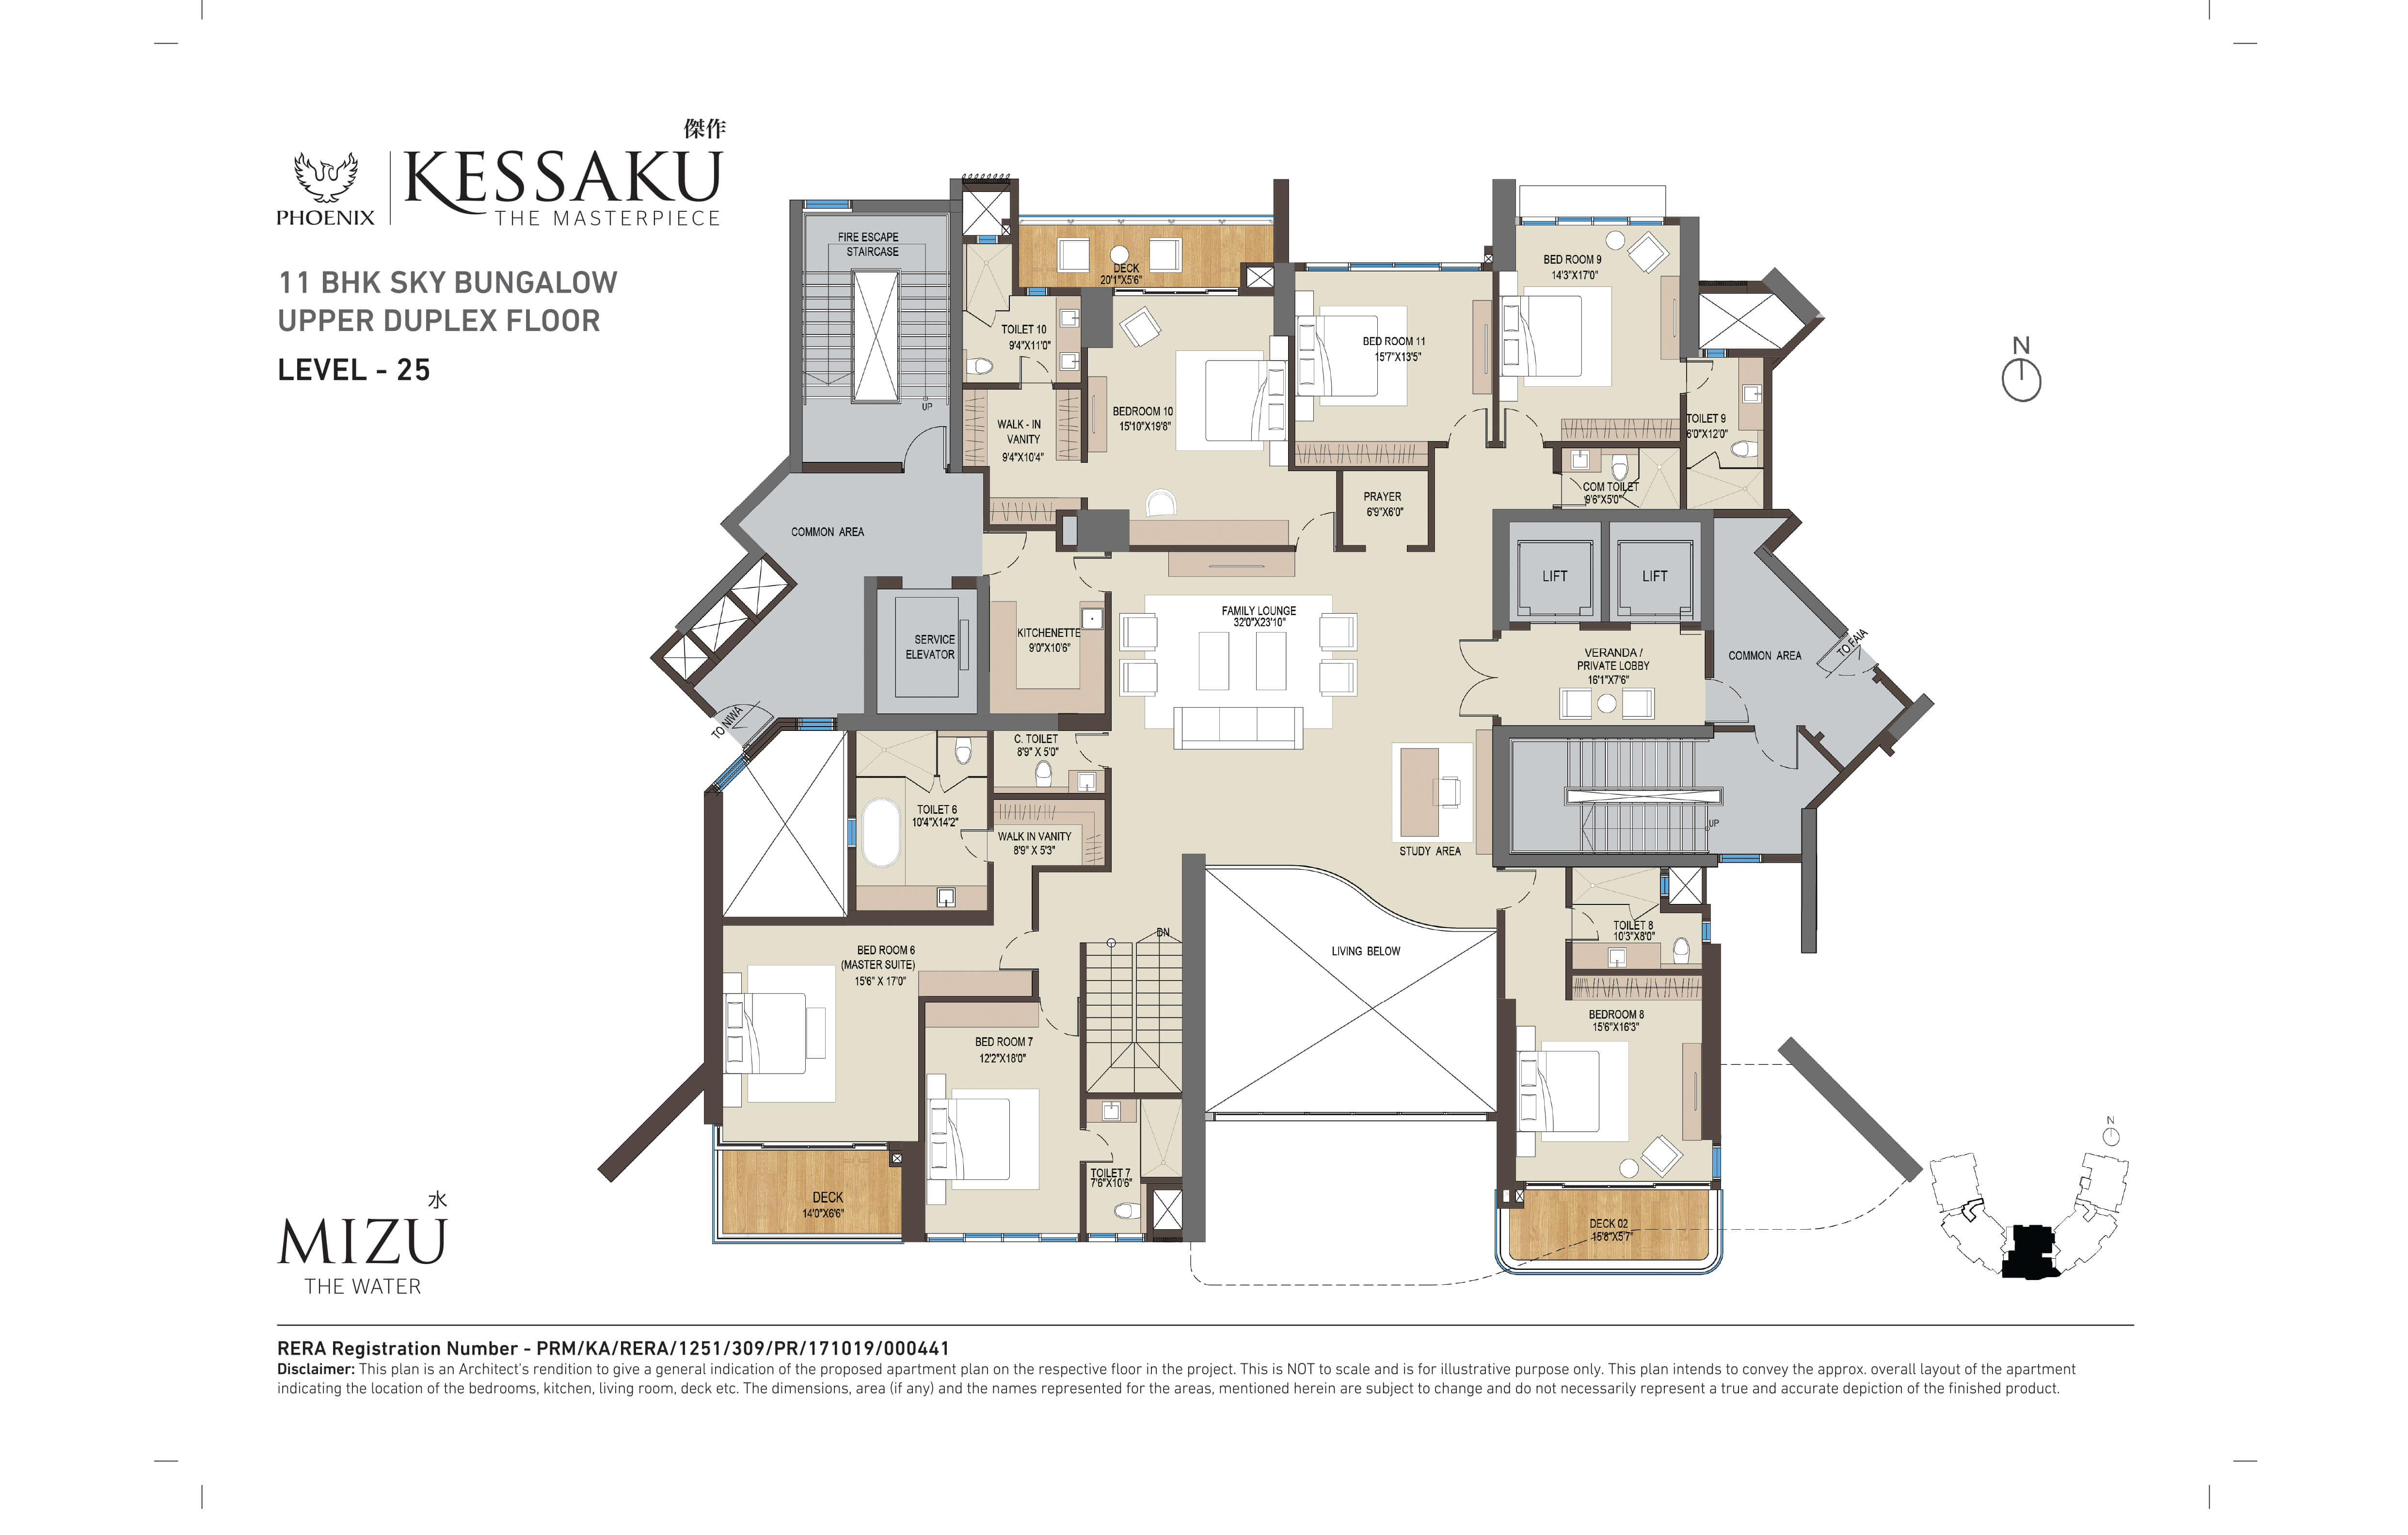window: (923, 1230, 1081, 1247), (799, 196, 858, 214), (1085, 1230, 1148, 1246), (1715, 851, 1764, 868), (797, 716, 835, 732), (1711, 1144, 1724, 1182), (844, 817, 858, 849), (972, 233, 1000, 247), (1023, 284, 1051, 298), (1699, 919, 1713, 946), (1702, 347, 1729, 360), (1659, 872, 1671, 898)
